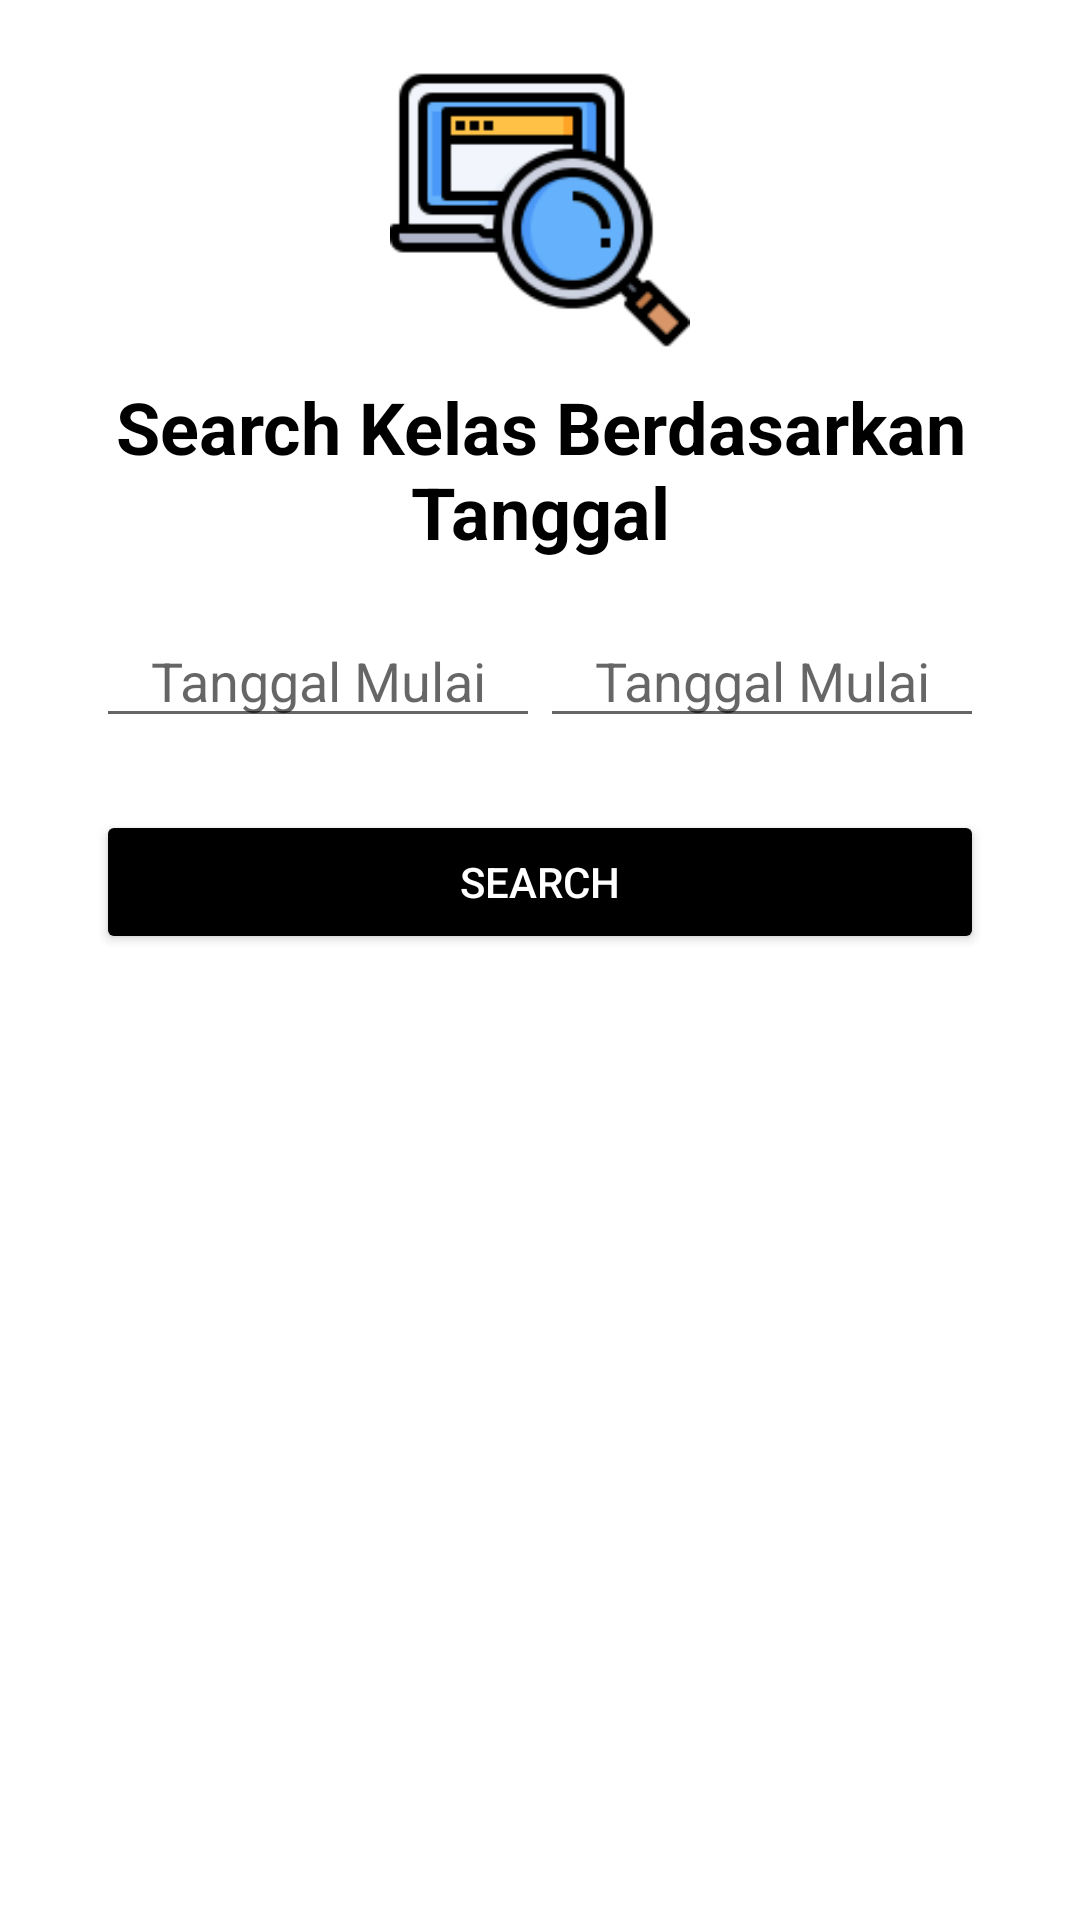

Icons on this 1080*1920 Android screen, each with the point to tap as [x,y]:
searching: [540,210]
